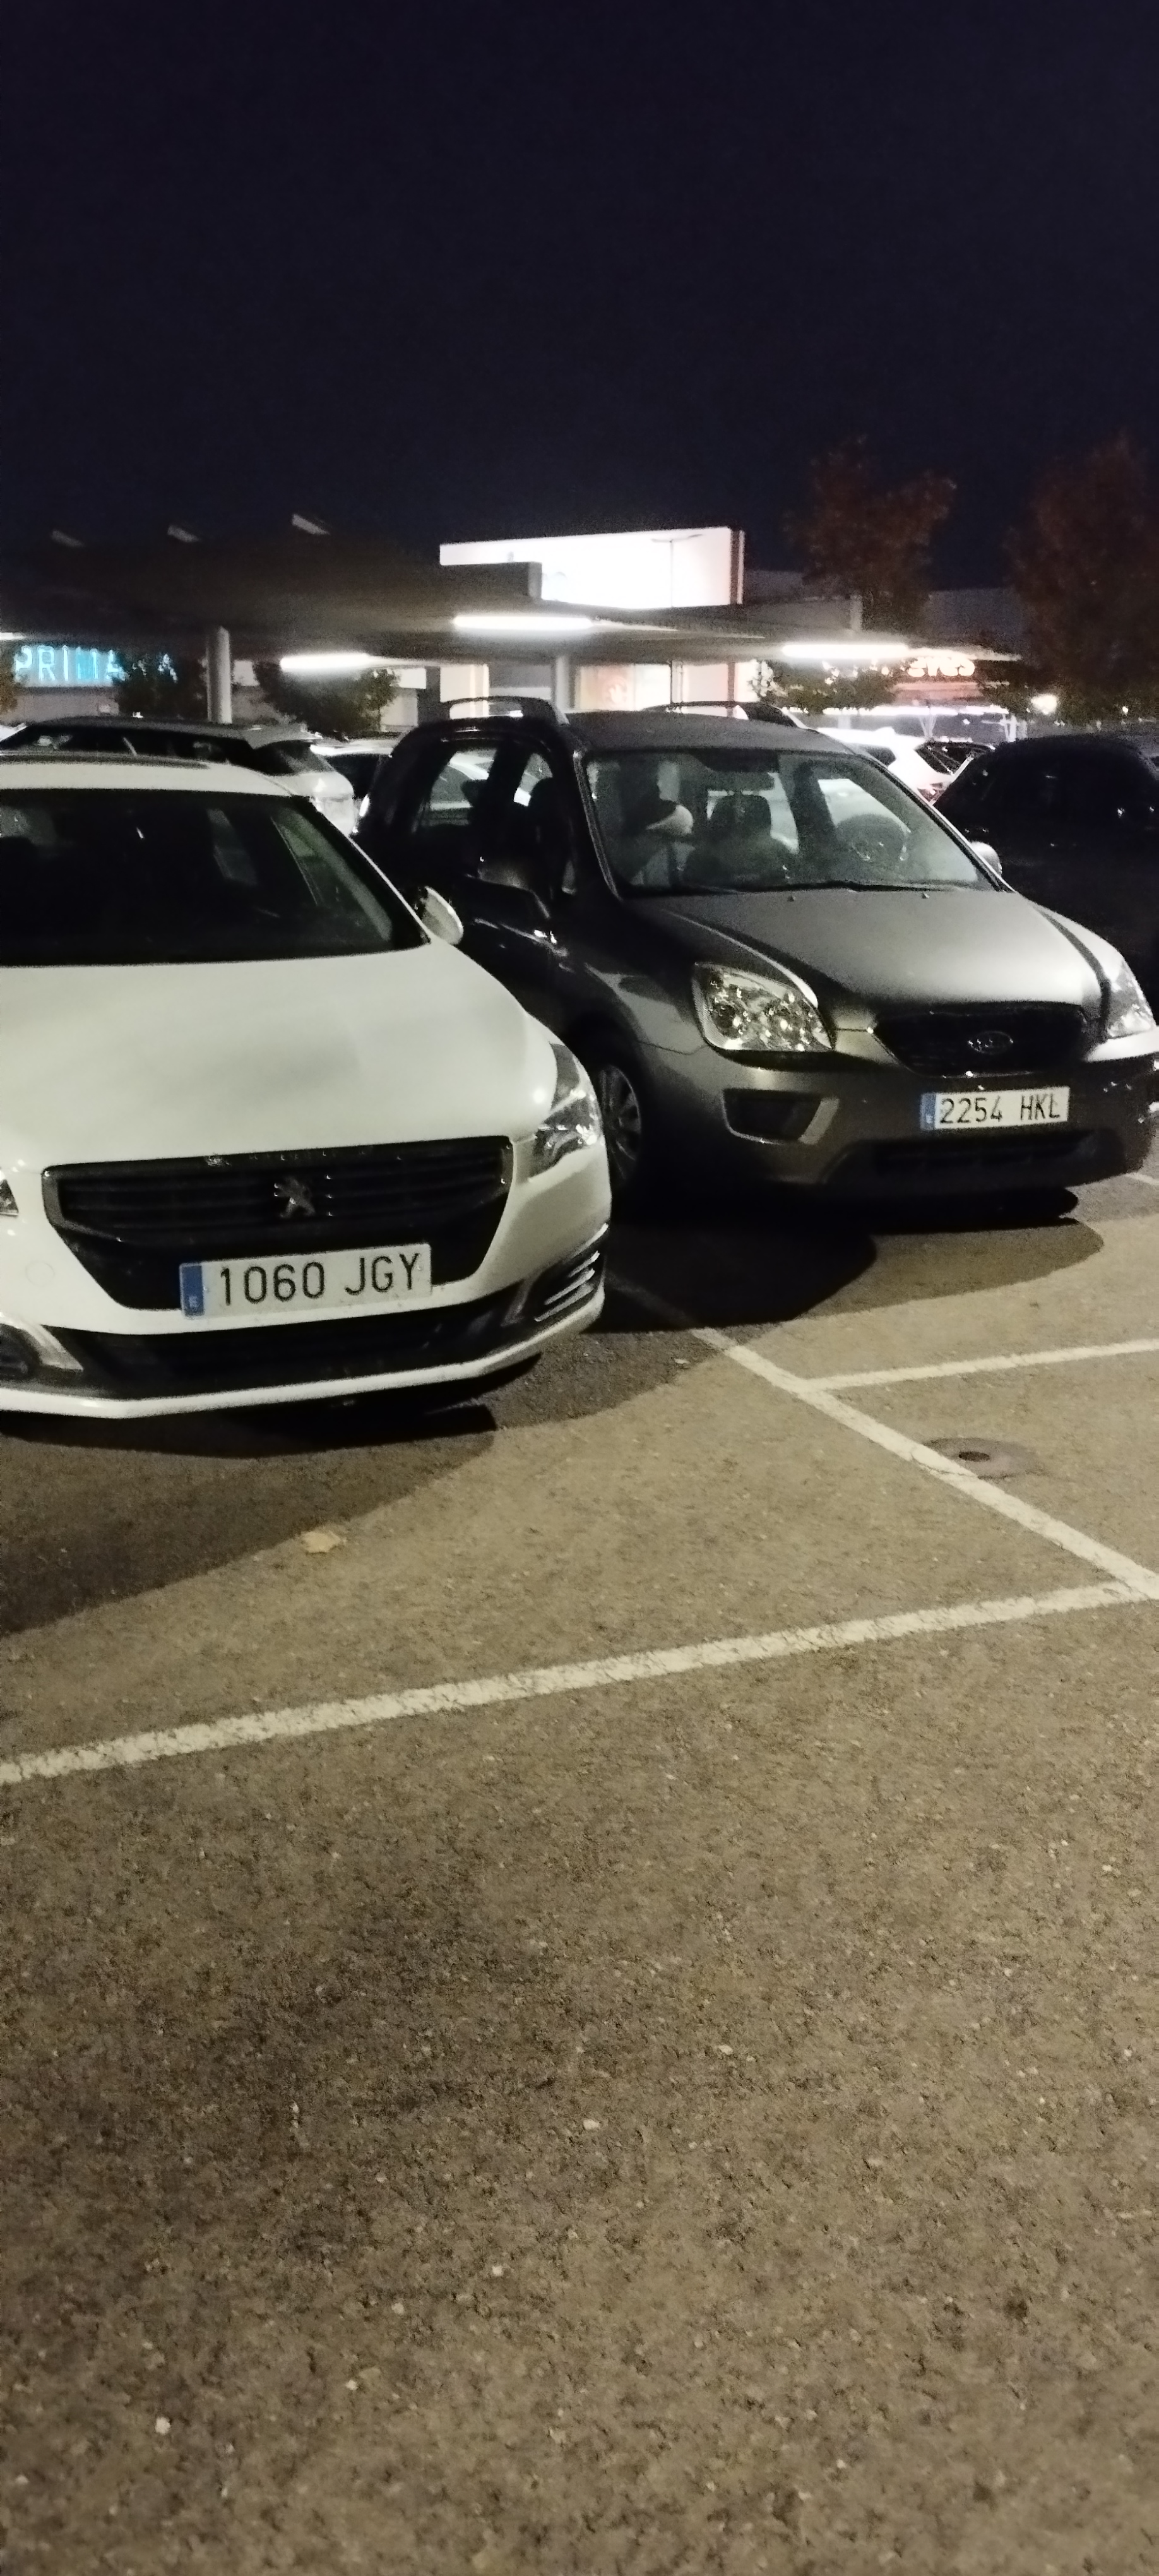Car: (0, 752, 607, 1421), (412, 708, 1151, 1179)
Plate: (179, 1261, 434, 1322), (919, 1095, 1073, 1130)
